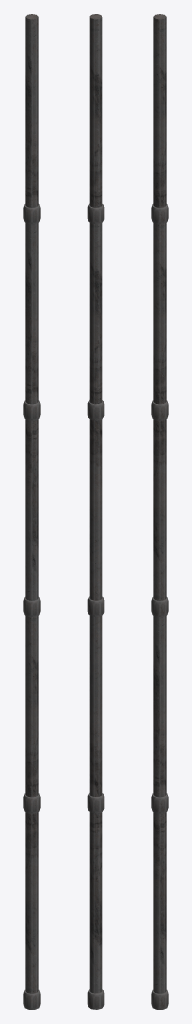
The model's file is sm_dwarf_erebor_spear_handle_a.fbx.
The picture shows the model from 3 angles, left to right: view 1: azimuth 90°, elevation 25°; view 2: azimuth 210°, elevation 25°; view 3: azimuth 270°, elevation 25°; orthographic projection.
Visible parts, largest first — view 1: sm_dwarf_erebor_spear_handle_a; view 2: sm_dwarf_erebor_spear_handle_a; view 3: sm_dwarf_erebor_spear_handle_a.
Part boxes in pixels (x1,y1,x2,y2): sm_dwarf_erebor_spear_handle_a: [23, 14, 40, 1009]; sm_dwarf_erebor_spear_handle_a: [87, 14, 104, 1009]; sm_dwarf_erebor_spear_handle_a: [151, 14, 168, 1009].
Bounding box in the file's own units: 0.04 × 0.04 × 2.52.
Materials: 1 (1 with a texture image).
